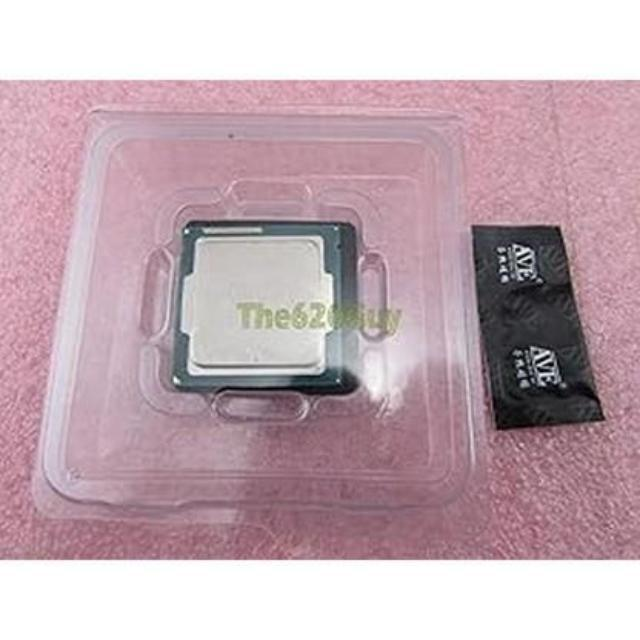CPU: (176, 225, 342, 384)
